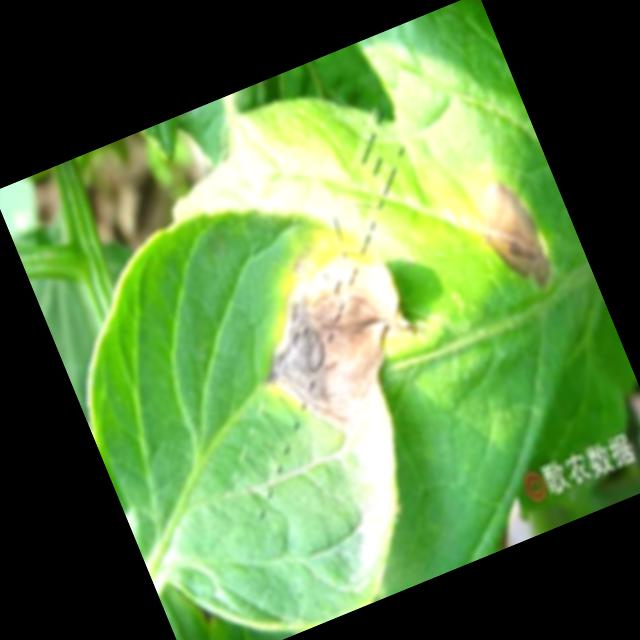Early_blight: (226, 220, 438, 451), (462, 169, 562, 306)
